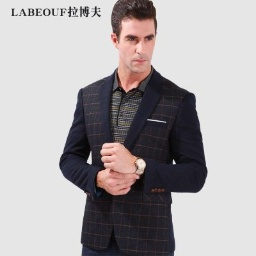face: (109, 1, 159, 77)
